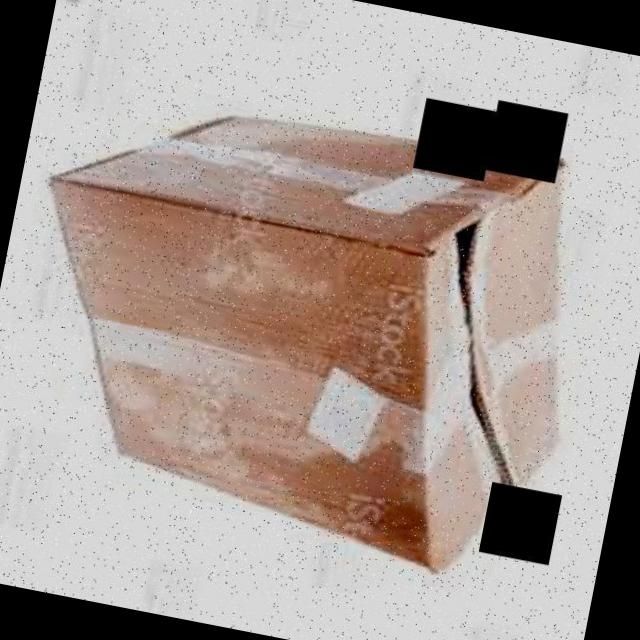box: (0, 63, 610, 592)
